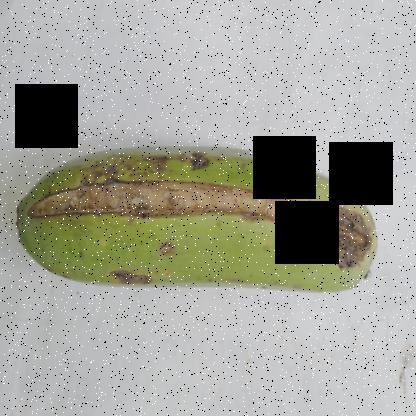rotten: (10, 114, 392, 349)
